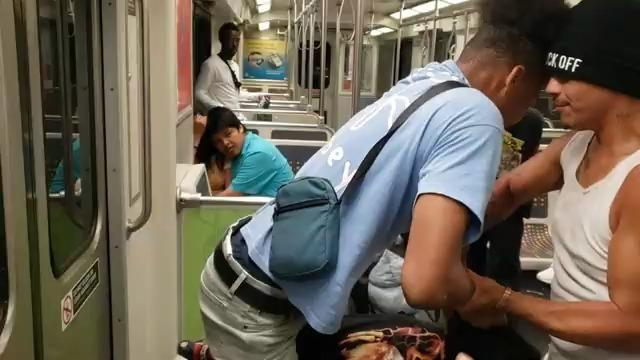non-violence: (469, 109, 549, 285), (194, 21, 271, 123), (214, 105, 291, 195), (193, 110, 234, 195)
violence: (177, 0, 640, 359)
